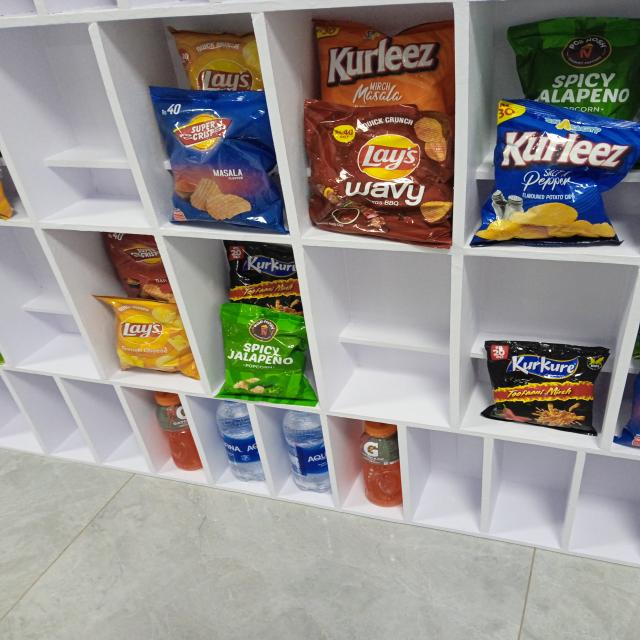Plastic: (483, 114, 630, 248), (308, 108, 452, 244), (153, 94, 272, 227), (308, 17, 454, 106), (484, 342, 604, 432), (506, 19, 640, 99), (216, 306, 308, 402), (100, 297, 194, 378), (170, 26, 258, 88), (226, 240, 300, 304), (150, 392, 202, 471), (282, 410, 330, 490), (104, 232, 166, 292), (359, 421, 401, 509), (218, 400, 259, 480)
